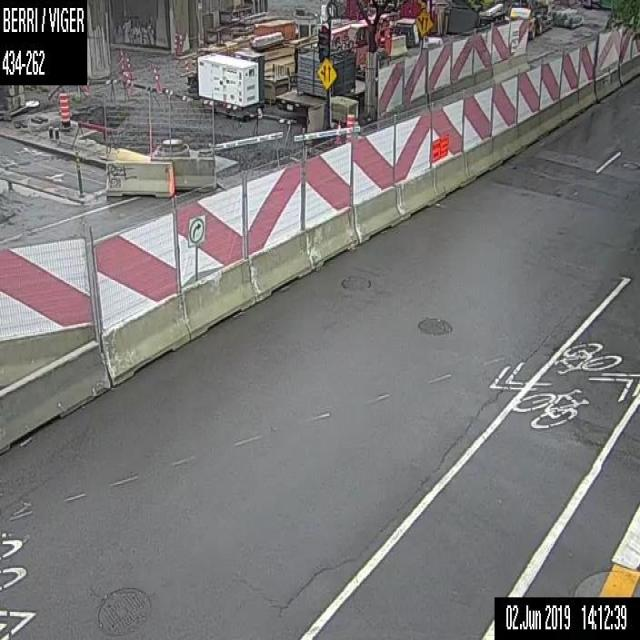construction: (57, 88, 73, 135), (346, 110, 354, 142), (334, 119, 342, 144)
